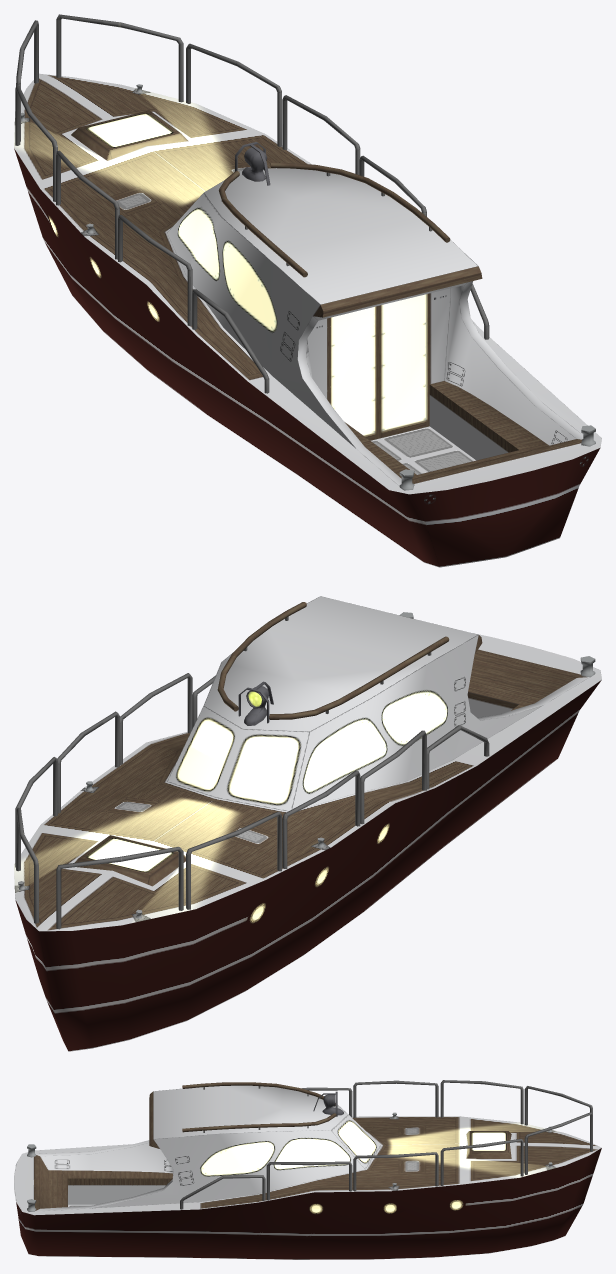
File: BoatMotor.fbx
3 renders of one model, top to bottom at view 1: azimuth 30°, elevation 25°; view 2: azimuth 150°, elevation 25°; view 3: azimuth 270°, elevation 25°, orthographic. The views are drawn at different scales.
Parts seen in each view (by area): view 1: sailing_yacht; view 2: sailing_yacht; view 3: sailing_yacht.
Boxes of the visible parts, x1=… form: sailing_yacht: x1=14, y1=14, x2=601, y2=567; sailing_yacht: x1=14, y1=596, x2=601, y2=1051; sailing_yacht: x1=14, y1=1080, x2=601, y2=1259.
Bounding box in the file's own units: 213 × 185 × 696.
Materials: 1 (1 with a texture image).
